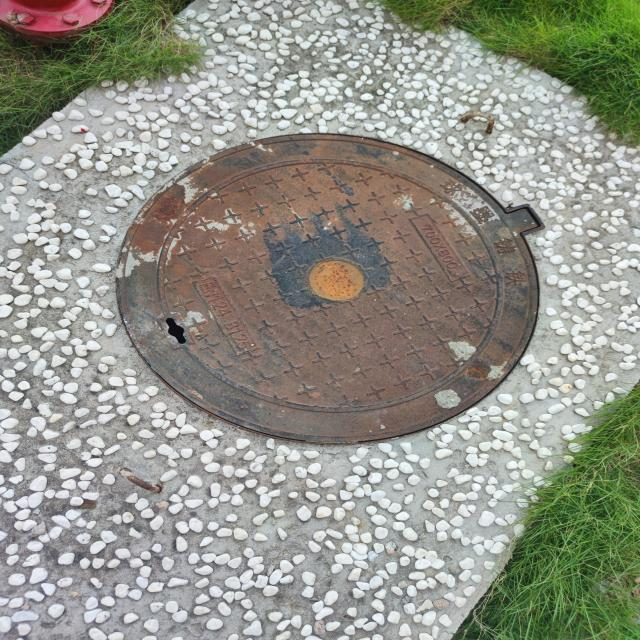Good: (107, 128, 554, 448)
